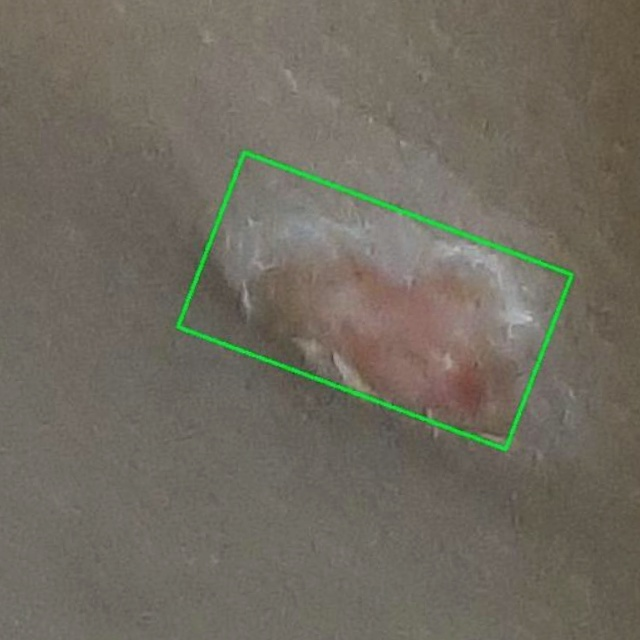Eczema: (179, 152, 572, 450)
